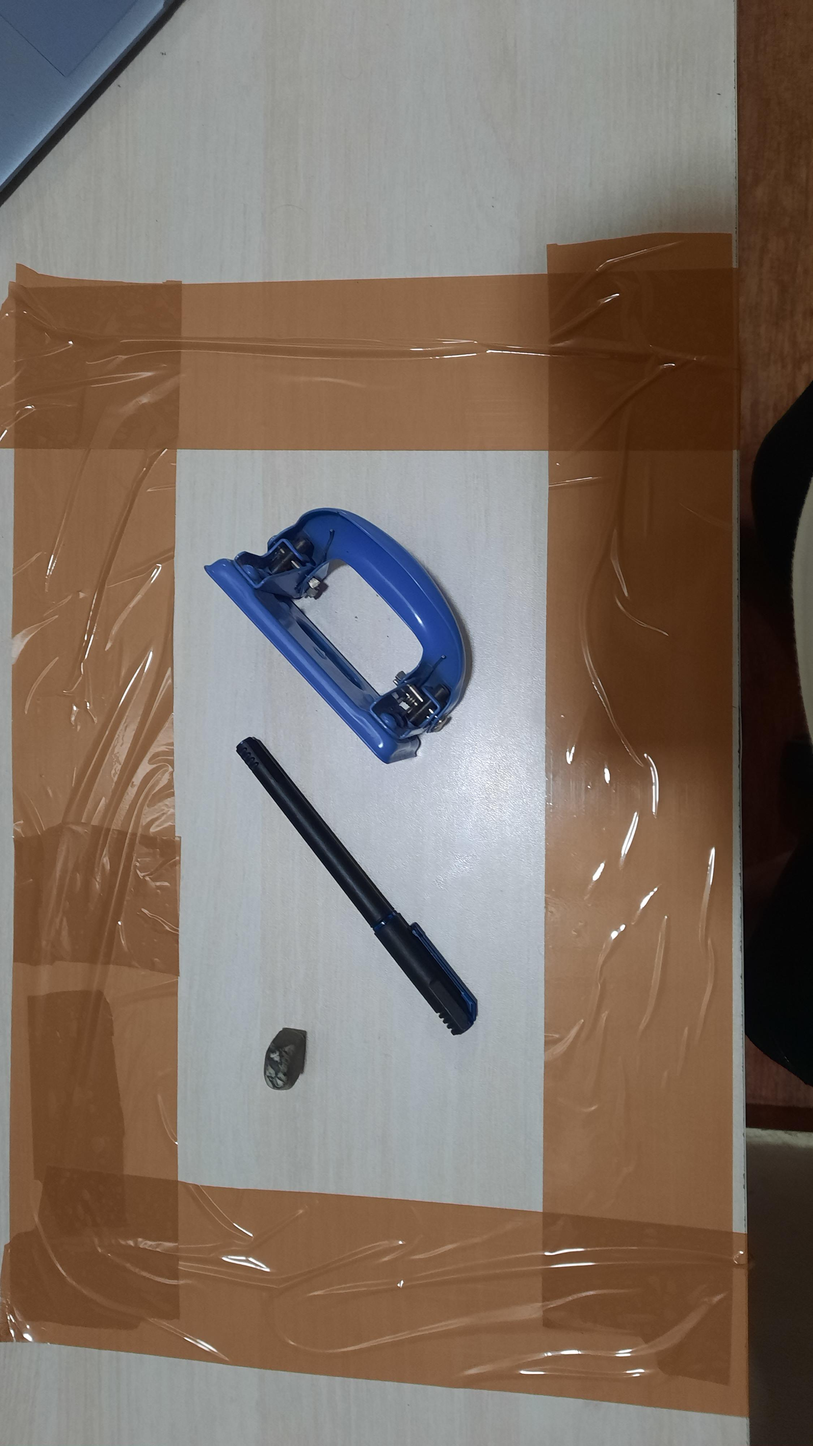Eraser: (263, 1026, 307, 1091)
Pen: (236, 736, 480, 1036)
Punch: (203, 507, 473, 765)
